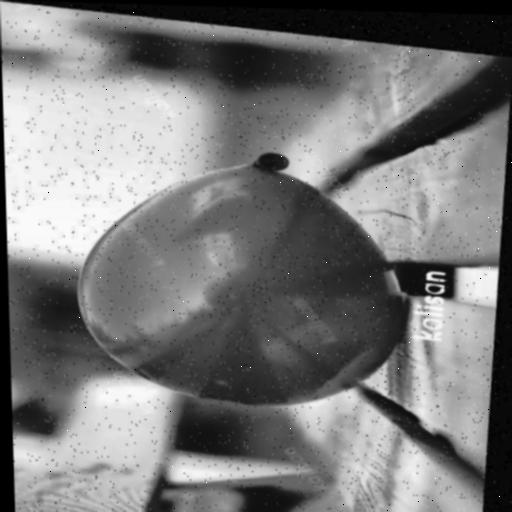balloon: (39, 109, 436, 422)
